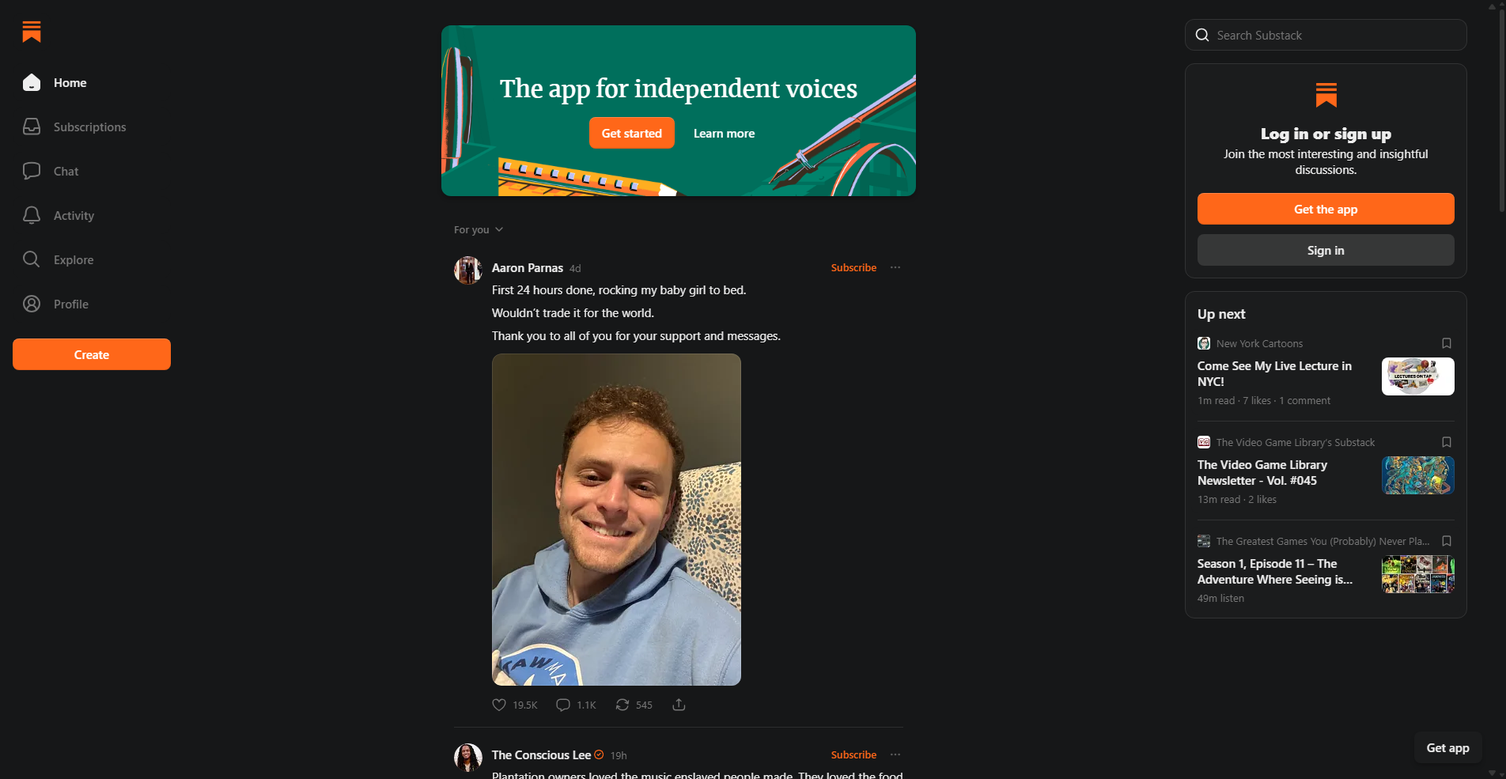button: (1198, 193, 1455, 225), (1198, 234, 1455, 266), (13, 63, 171, 101), (13, 240, 171, 278), (13, 338, 171, 370), (681, 117, 768, 149), (590, 117, 675, 149), (1414, 732, 1482, 763), (486, 692, 544, 717), (13, 13, 51, 51), (449, 218, 510, 240), (550, 692, 603, 717), (826, 743, 881, 766), (609, 692, 659, 717), (826, 256, 881, 278), (665, 692, 692, 717), (883, 255, 908, 280), (883, 742, 908, 767), (1437, 334, 1456, 353), (1437, 433, 1456, 452), (1437, 531, 1456, 550)
clickable: (492, 354, 741, 686)
input: (1185, 19, 1467, 51)
link: (1191, 329, 1461, 414), (1191, 428, 1461, 513), (1191, 527, 1461, 612), (13, 108, 171, 146), (13, 152, 171, 190), (13, 196, 171, 234), (13, 285, 171, 323), (1217, 534, 1439, 547), (1217, 435, 1375, 448), (492, 747, 591, 762), (1217, 336, 1303, 350), (492, 259, 563, 275), (454, 256, 482, 285), (454, 743, 482, 772), (610, 746, 627, 762), (569, 259, 581, 275)
